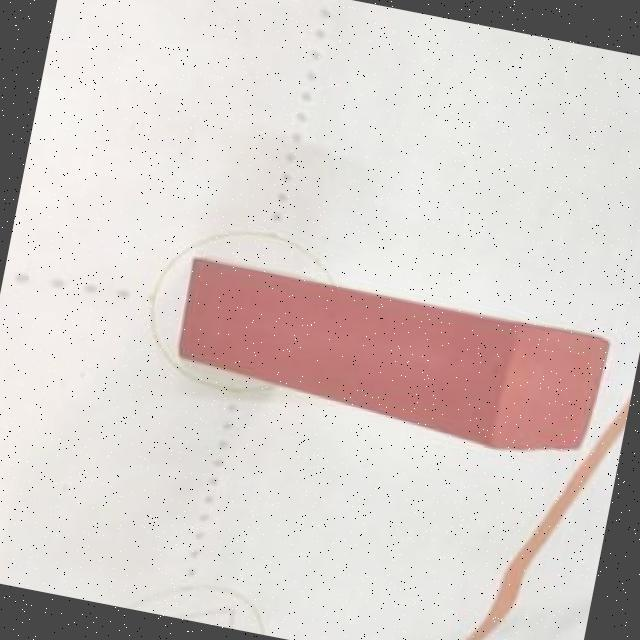redbox: (162, 252, 616, 468)
